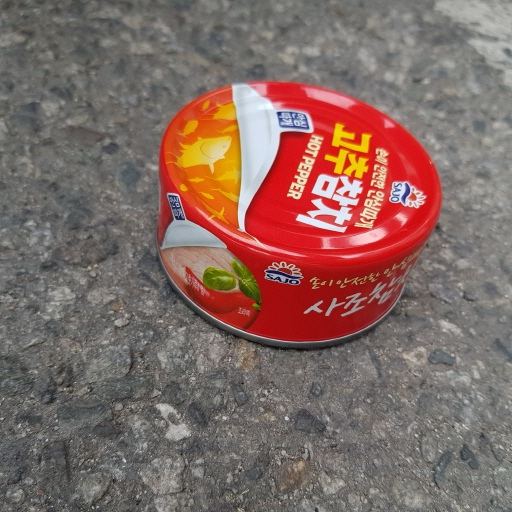Metal_1: (150, 79, 442, 347)
